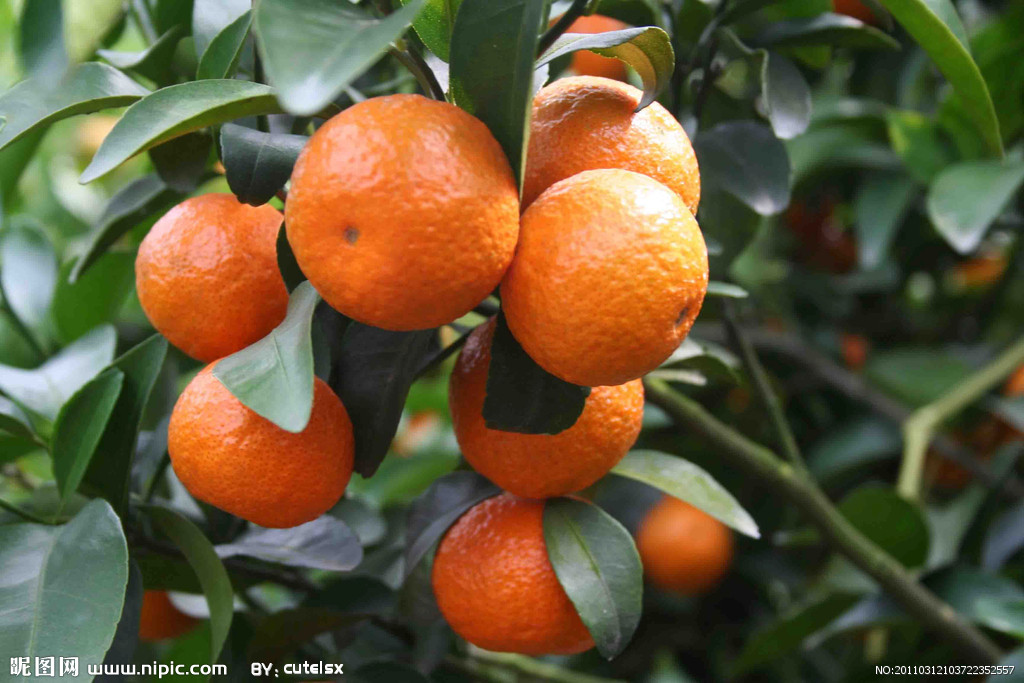orange: (284, 93, 517, 332), (506, 165, 708, 385), (451, 307, 642, 499), (430, 493, 638, 653), (168, 362, 352, 529), (135, 190, 313, 362), (526, 73, 702, 236)
